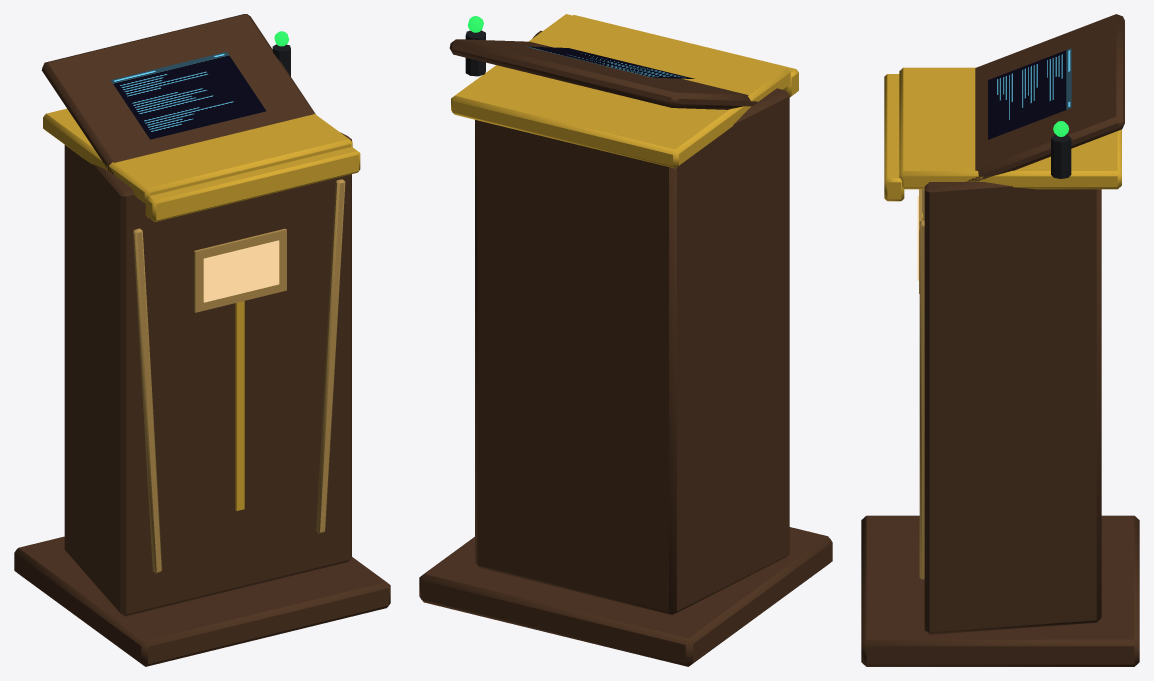
The model's file is console_captain_podium.glb.
3 views of the same model, side by side, from view 1: azimuth 30°, elevation 25°; view 2: azimuth 150°, elevation 25°; view 3: azimuth 270°, elevation 25° (orthographic). The views are drawn at different scales.
Parts seen in each view (by area): view 1: console_captain_podium; view 2: console_captain_podium; view 3: console_captain_podium.
Boxes of the visible parts, x1,y1,x2,y2 form: console_captain_podium: [14, 14, 390, 666]; console_captain_podium: [419, 14, 832, 666]; console_captain_podium: [861, 14, 1139, 666].
Bounding box in the file's own units: 0.6 × 1.18 × 0.55.
10 materials, 1 textured.
